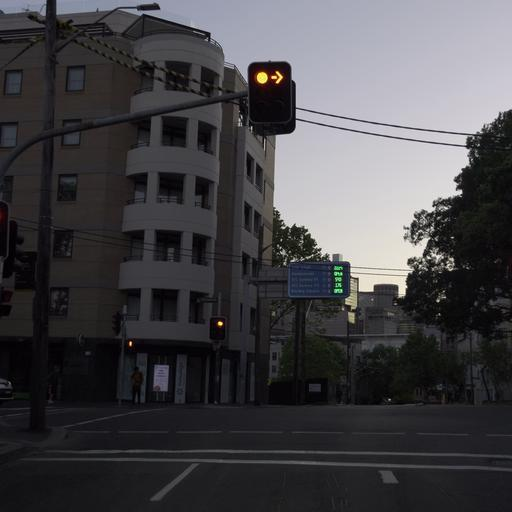Street light: (0, 1, 296, 432), (24, 0, 161, 431), (25, 0, 161, 30)
